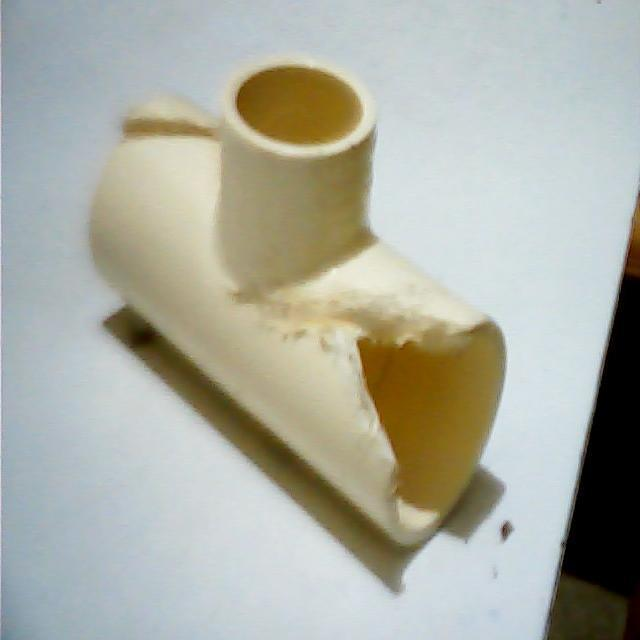Defective: (312, 276, 506, 484), (124, 110, 208, 170)
T Joint: (88, 55, 507, 550)
